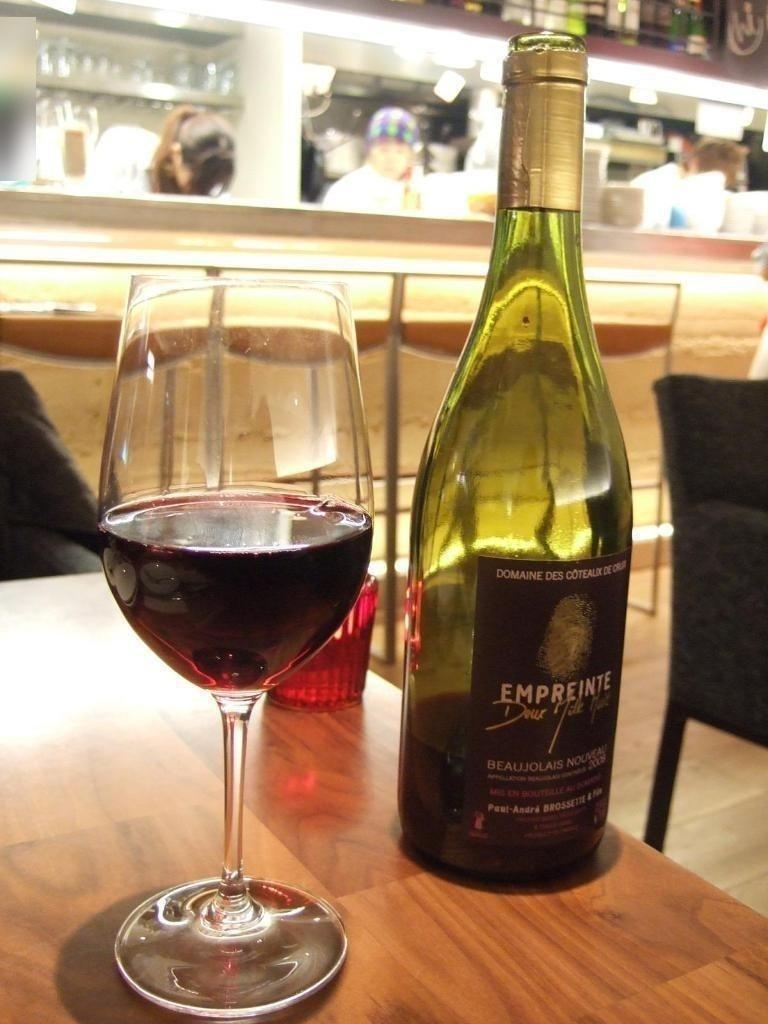bottle-glass: (394, 37, 636, 896)
glass-wine: (94, 266, 377, 1023)
